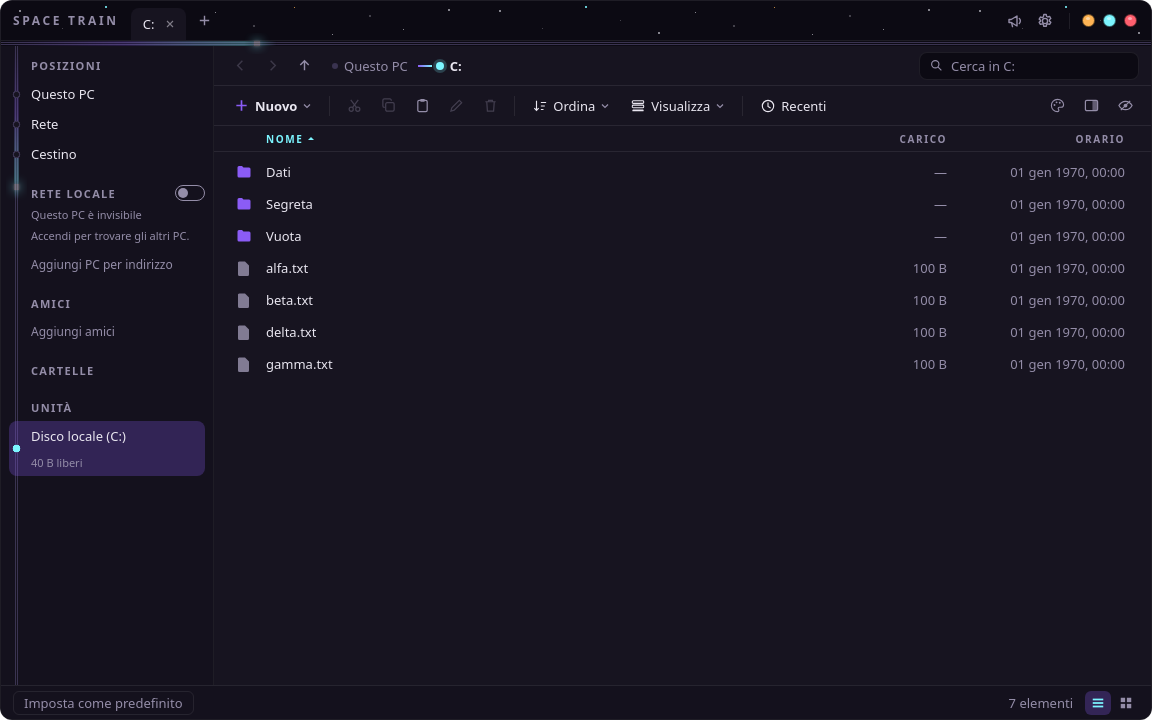
Test: preferiti › appartengono alla cartella: altrove non compaiono, tornando sì
Step 1. Click the row "alfa.txt 100 B 01 gen 1970, 00:00" → point(287, 268), box [236, 259, 1125, 277]
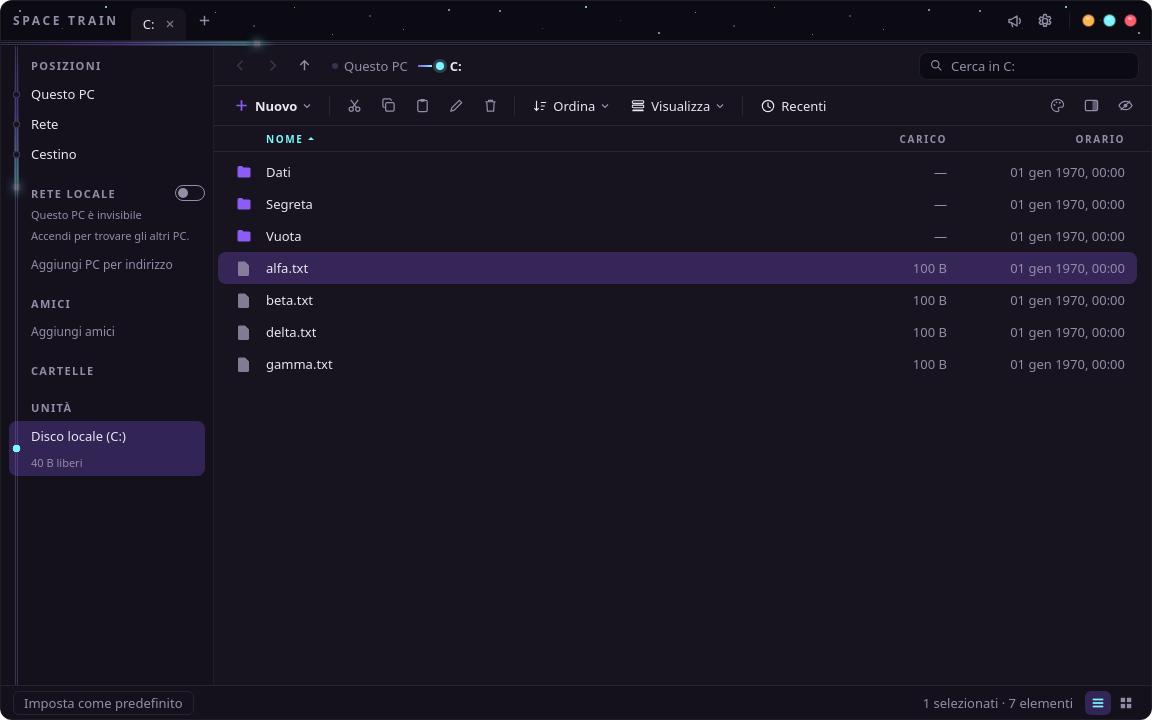
Step 2. Press d
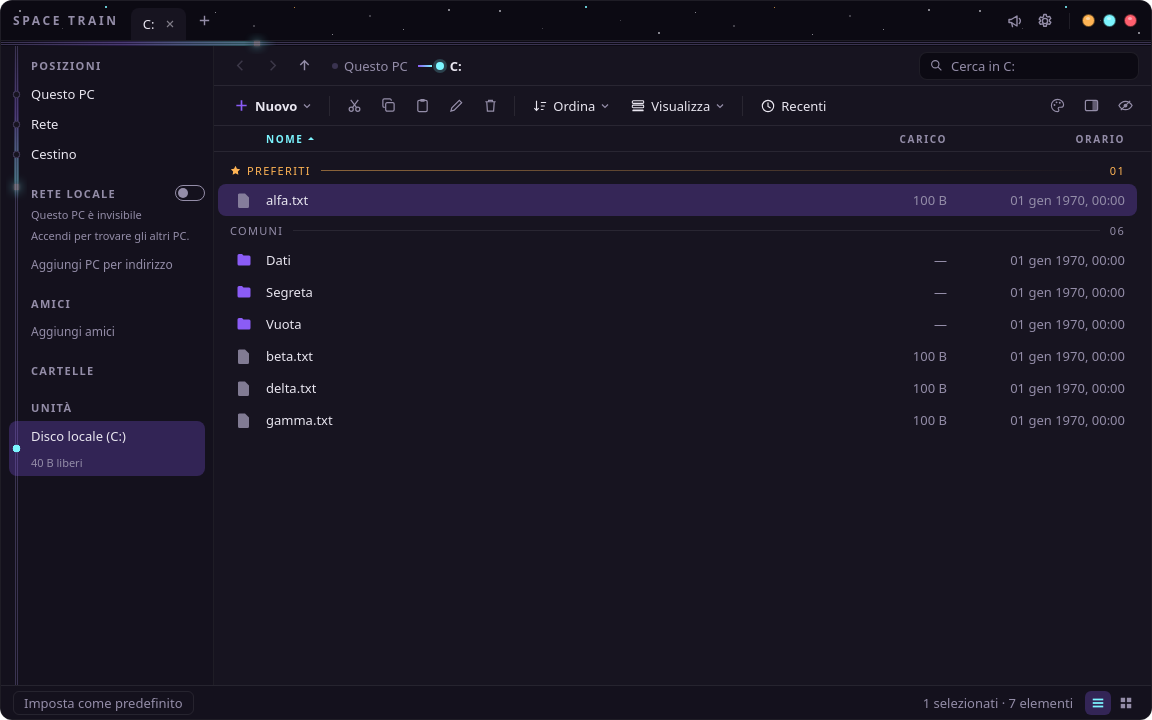
Step 3. Double-click the row "Dati — 01 gen 1970, 00:00" → point(1068, 260), box [236, 251, 1125, 269]
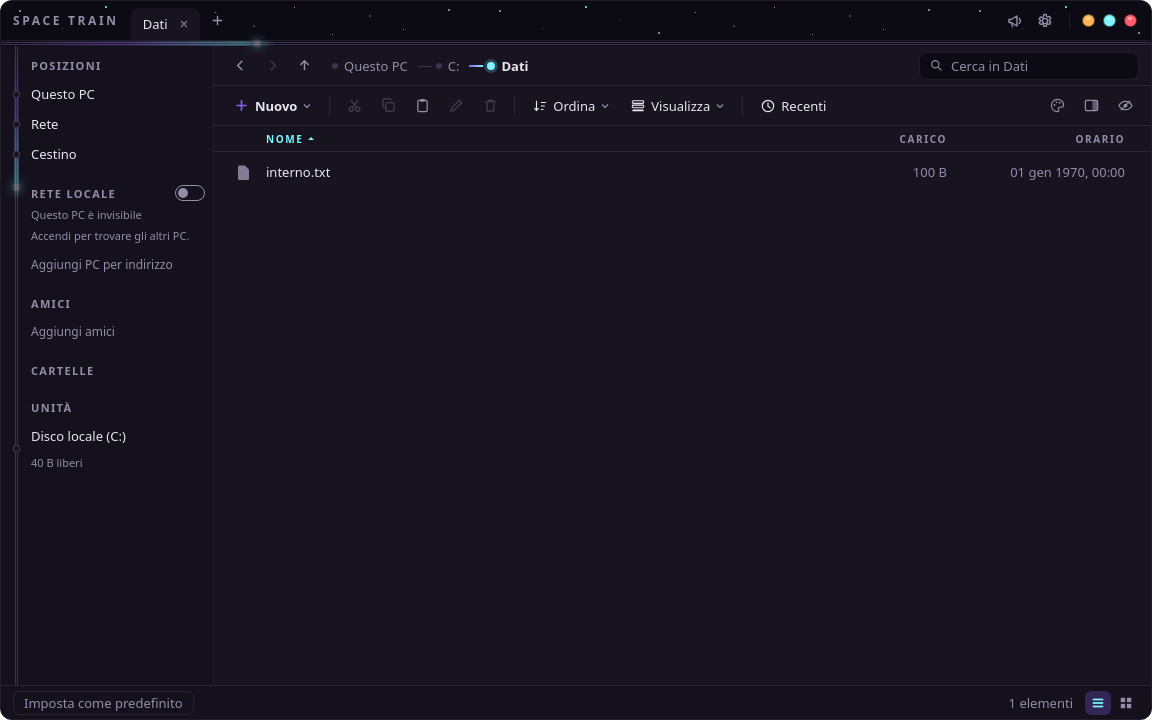
Step 4. Click the button named "Indietro" → point(240, 66), box [226, 52, 254, 80]
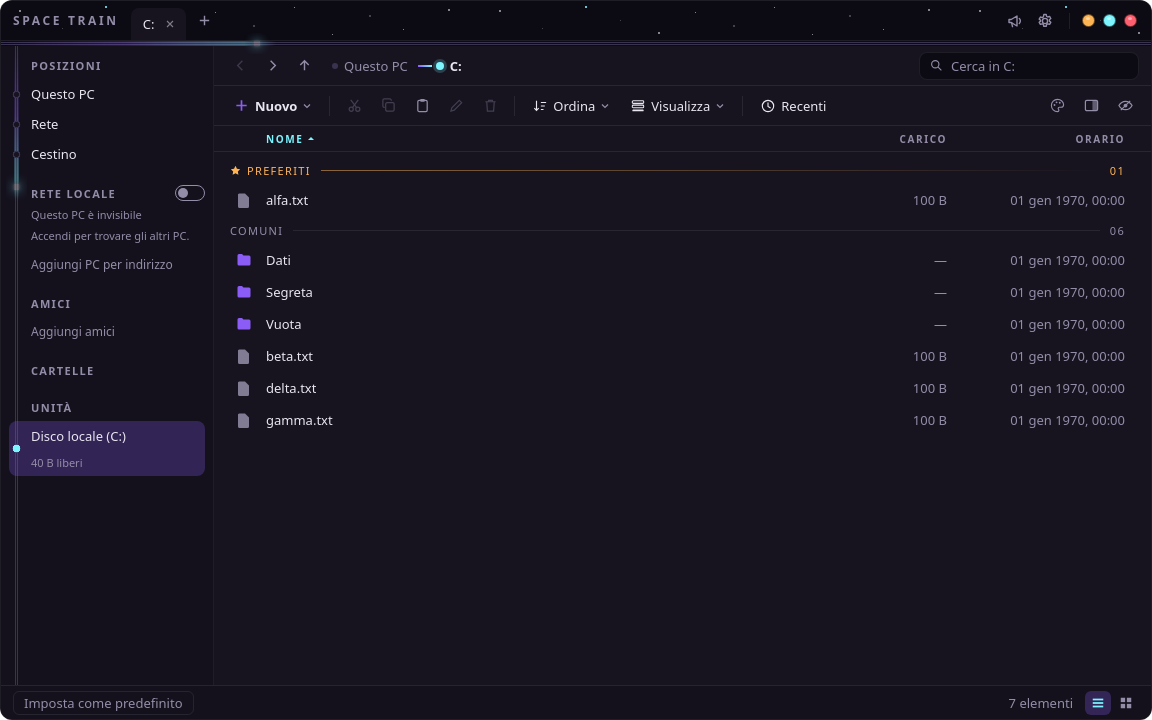
expect the text with class "name" reads "alfa.txt": met, box [266, 191, 308, 209]
